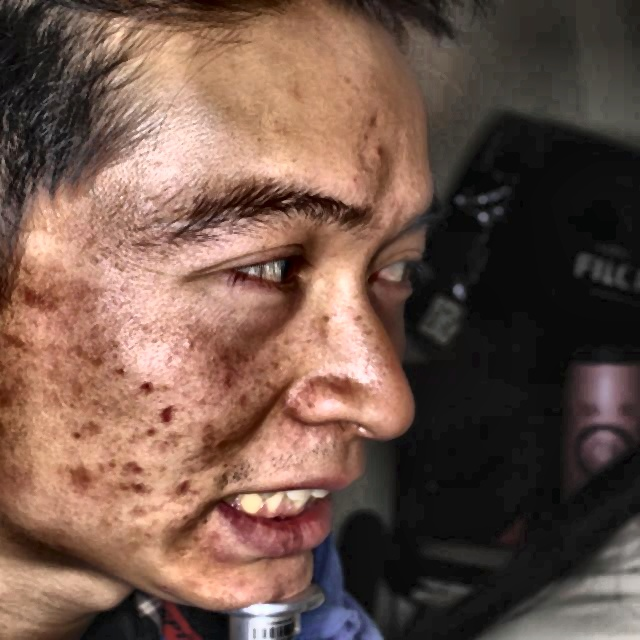pustule: (360, 136, 404, 168), (130, 374, 160, 403), (68, 456, 97, 486), (169, 470, 194, 500), (112, 454, 152, 471), (120, 476, 142, 498), (152, 400, 172, 421)
